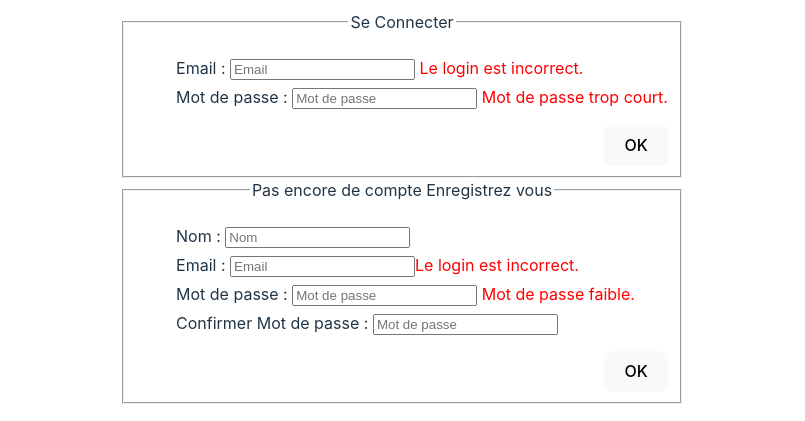
Test: Scenario de test › A registered user try to register again
In the field with placeholder "Nom": (318,238) left=225, top=227, right=410, bottom=248, type "NouvelUtilisateur"
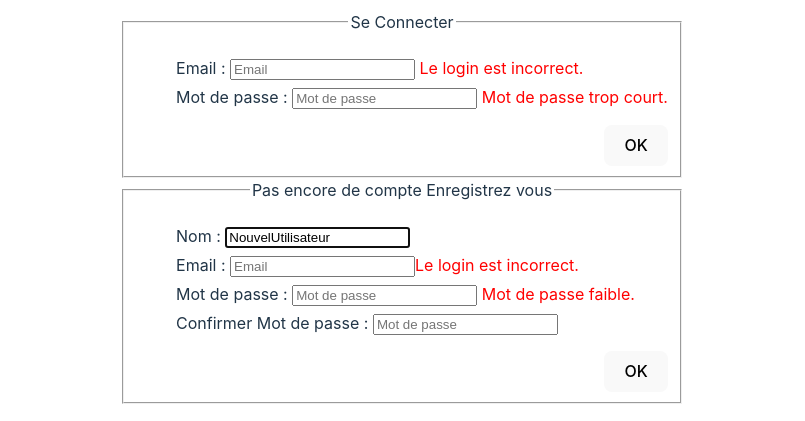
In the field with placeholder "Email" below "Nom :": (323,267) left=230, top=256, right=415, bottom=277, type "NouvelUtilisateur@example.com"
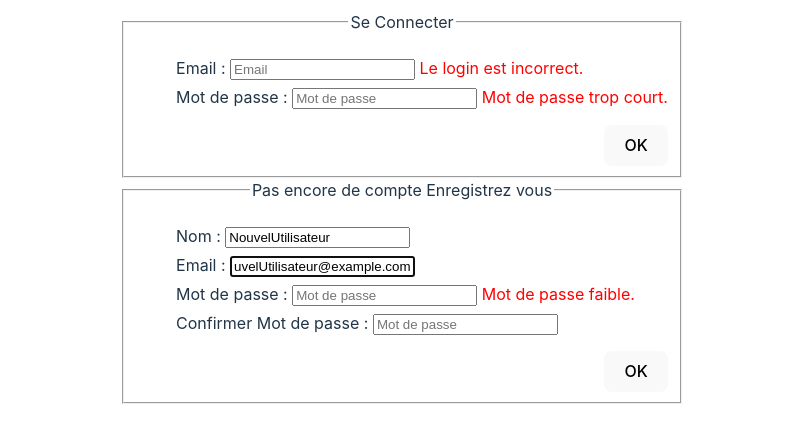
In the password field with placeholder "Mot de passe" next to "Mot de passe faible.": (385,296) left=292, top=285, right=477, bottom=306, type "MotDePasseFort123!"
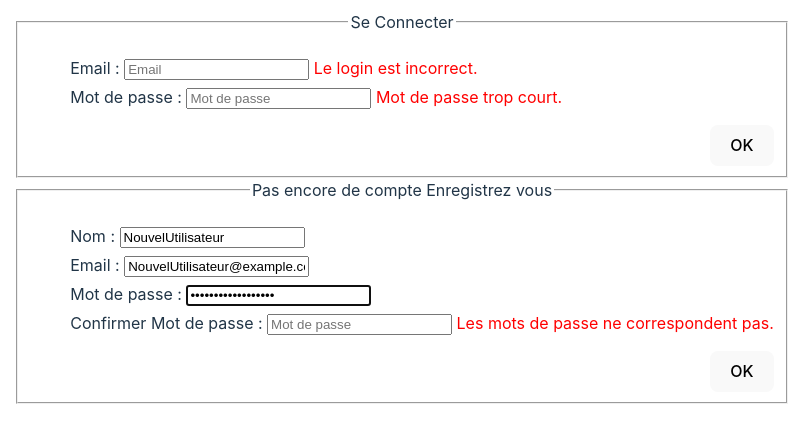
In the password field with placeholder "Mot de passe" next to "Confirmer Mot de passe :": (360,325) left=267, top=314, right=452, bottom=335, type "MotDePasseFort123!"
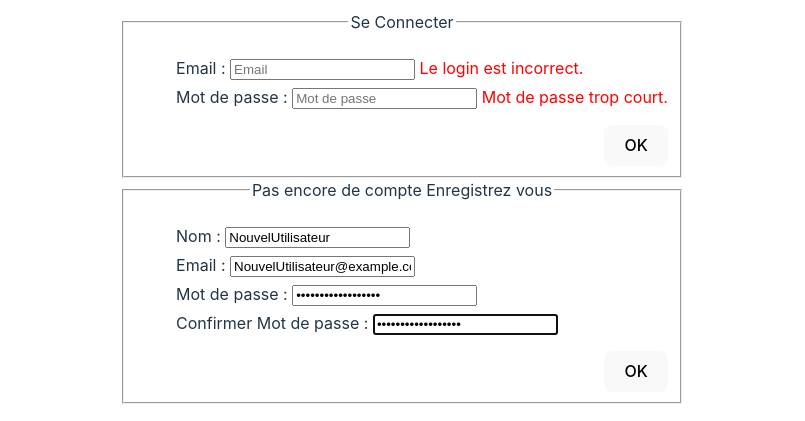
Click the button "OK" below "Confirmer Mot de passe :": (636,372) left=604, top=351, right=668, bottom=392
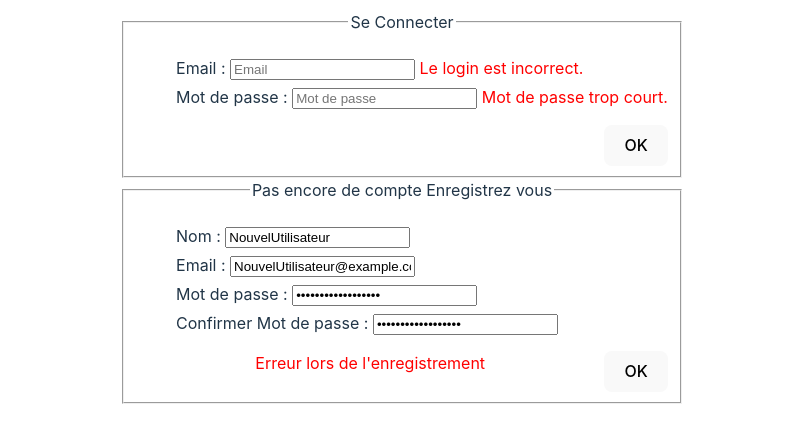
Now the text "Erreur lors de l'enregistrement" is shown, box left=255, top=353, right=485, bottom=373
